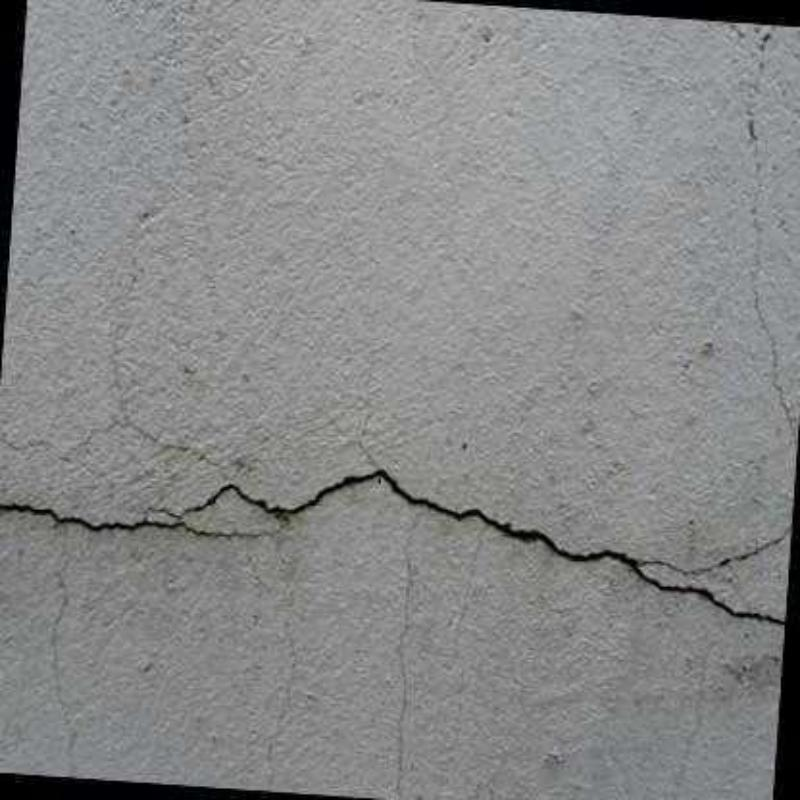pothole: (143, 468, 785, 627), (73, 344, 229, 473), (744, 27, 777, 312), (0, 503, 243, 538), (641, 524, 792, 577), (396, 508, 421, 798), (675, 638, 719, 787), (754, 305, 798, 451), (48, 571, 79, 777), (452, 523, 490, 660), (267, 633, 298, 790), (0, 431, 92, 454), (238, 512, 298, 540), (355, 415, 380, 471)
